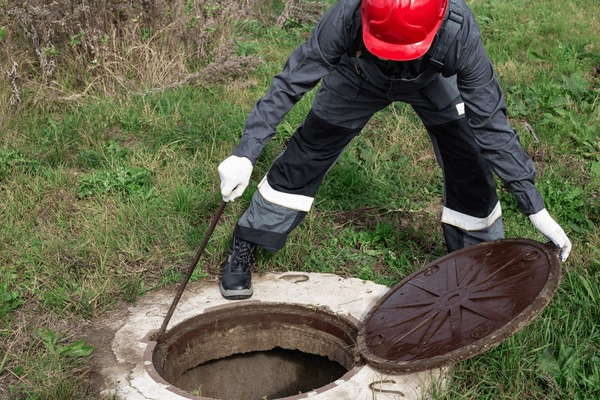open_manhole: (154, 311, 358, 393)
